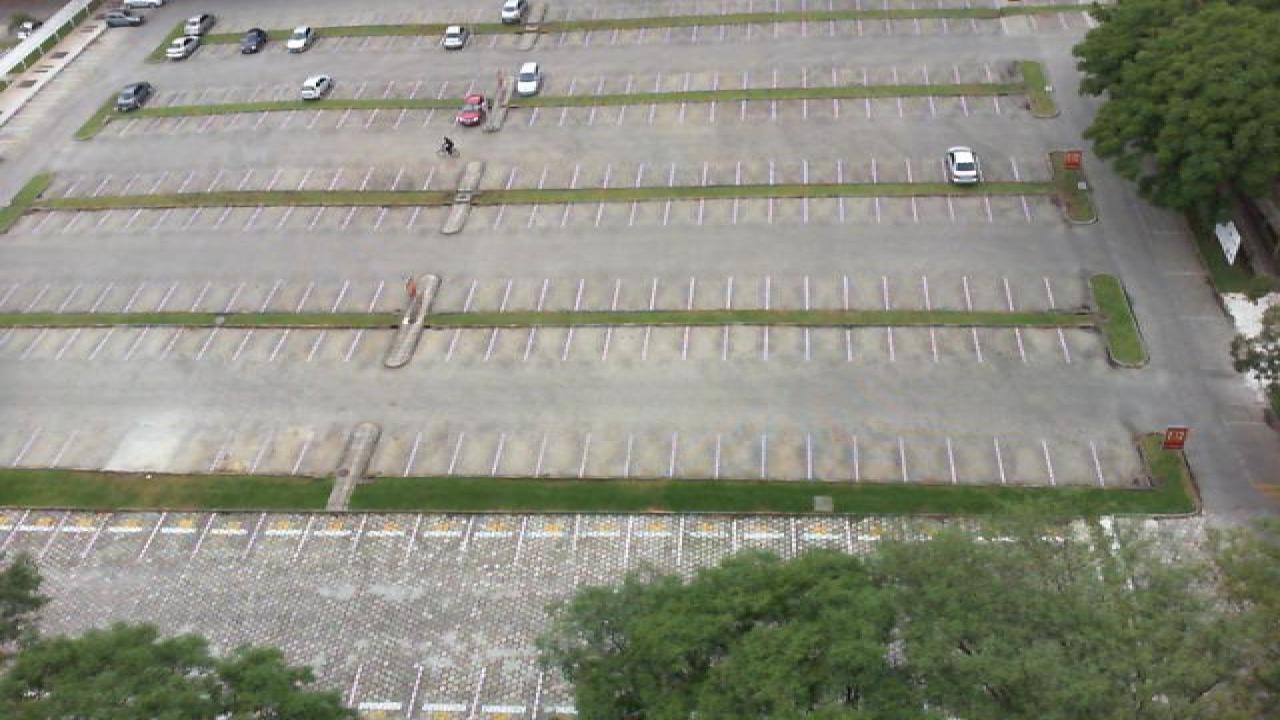Car: (946, 145, 984, 186), (114, 80, 156, 112), (454, 93, 488, 130), (512, 61, 544, 97), (298, 73, 336, 101), (164, 33, 200, 61), (236, 27, 270, 55), (282, 25, 316, 53), (182, 12, 218, 38), (438, 24, 468, 52), (496, 0, 528, 25), (106, 9, 148, 27)
